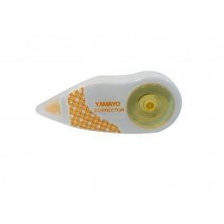correction_fluid: (32, 69, 182, 138)
